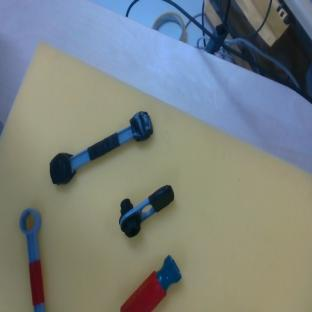part_1_bad: (107, 170, 179, 239)
part_2_good: (118, 253, 187, 312)
part_3_bad: (42, 106, 158, 189)
part_3_good: (19, 207, 45, 312)
